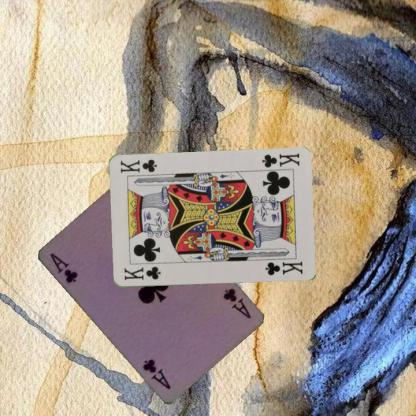Ac: (47, 248, 79, 286), (219, 286, 252, 320)
Kc: (260, 151, 300, 169), (121, 264, 162, 281)
